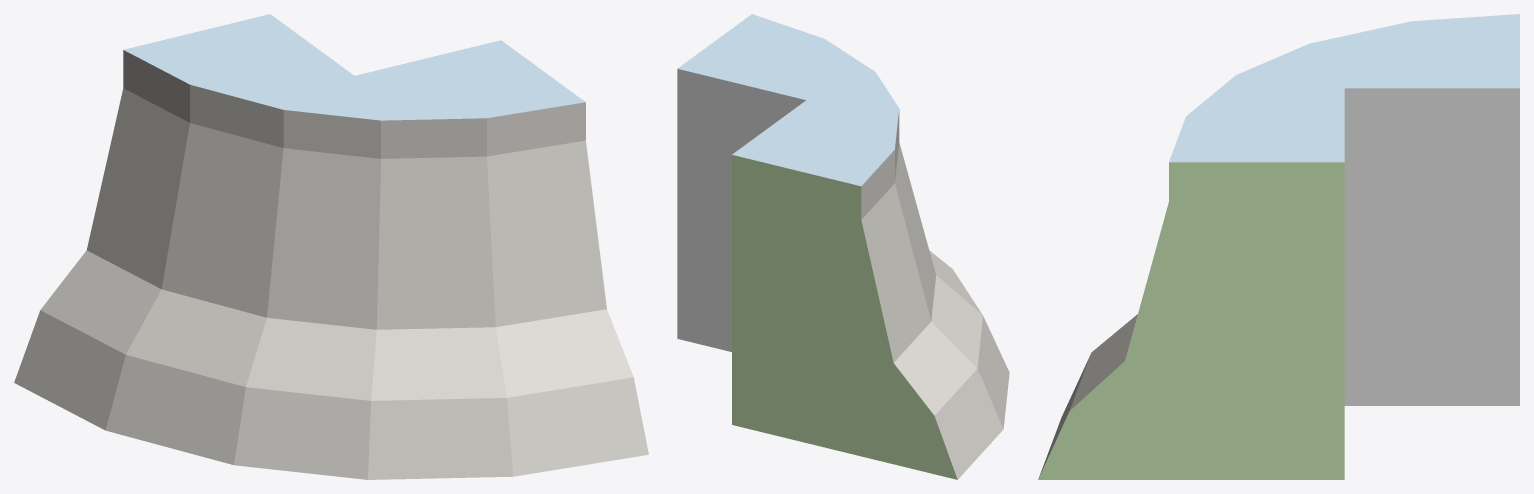
File: Wall_Curve_Outer_3x3_Base.glb
3 renders of one model, left to right at view 1: azimuth 30°, elevation 25°; view 2: azimuth 150°, elevation 25°; view 3: azimuth 270°, elevation 25°, orthographic. The views are drawn at different scales.
Visible parts, largest first — view 1: Wall_Curve_Outer_3x3_Base; view 2: Wall_Curve_Outer_3x3_Base; view 3: Wall_Curve_Outer_3x3_Base.
Boxes of the visible parts, x1,y1,x2,y2 form: Wall_Curve_Outer_3x3_Base: [14, 14, 648, 479]; Wall_Curve_Outer_3x3_Base: [677, 14, 1009, 479]; Wall_Curve_Outer_3x3_Base: [1038, 14, 1519, 479].
Size of the model in its own units: 275 by 200 by 275.
